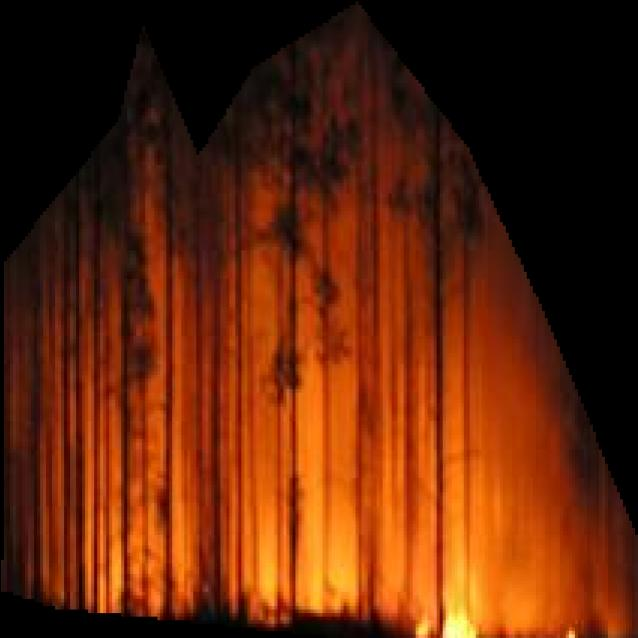fire: (1, 0, 638, 638)
